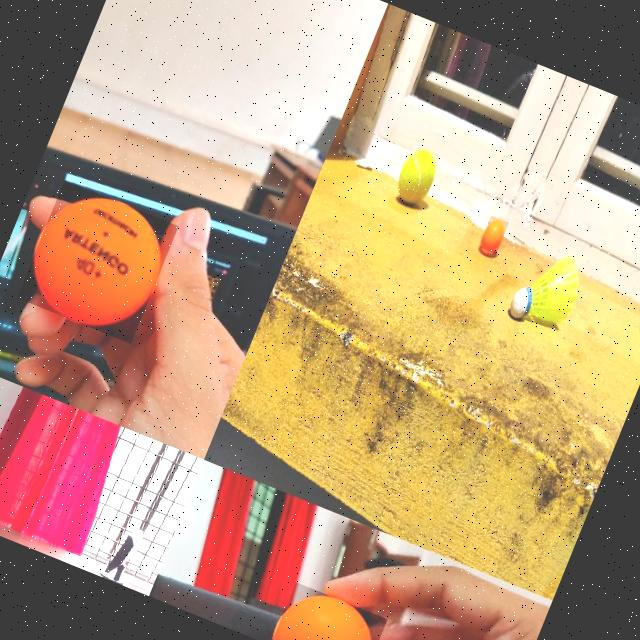ping-pong-ball: (14, 178, 178, 344), (267, 579, 386, 640), (476, 214, 509, 254)
